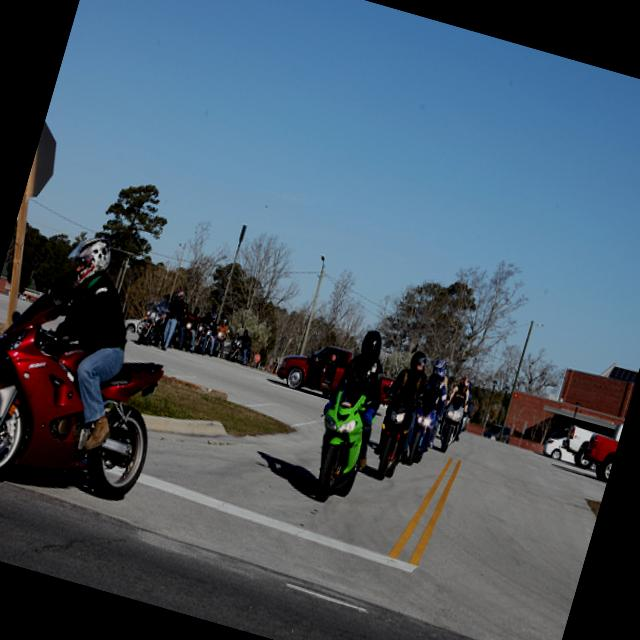Vehicle: (0, 273, 183, 522), (300, 372, 386, 512), (276, 334, 399, 408), (361, 393, 422, 486), (558, 403, 624, 475), (579, 418, 623, 483), (400, 406, 441, 470), (430, 395, 470, 455), (136, 293, 172, 350), (541, 430, 581, 464), (225, 332, 255, 366), (482, 420, 514, 446), (178, 316, 197, 351), (189, 320, 207, 352), (121, 310, 145, 334), (546, 423, 568, 447), (210, 328, 225, 359)
